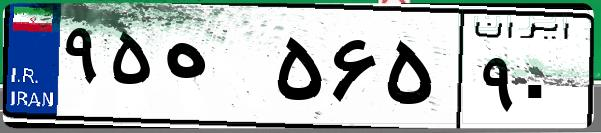0: (525, 38, 570, 115)
5: (270, 28, 330, 110), (385, 28, 445, 110), (110, 28, 158, 98)
6: (330, 28, 385, 110)
9: (57, 26, 110, 100), (475, 38, 525, 113)
ه: (158, 20, 270, 120)
